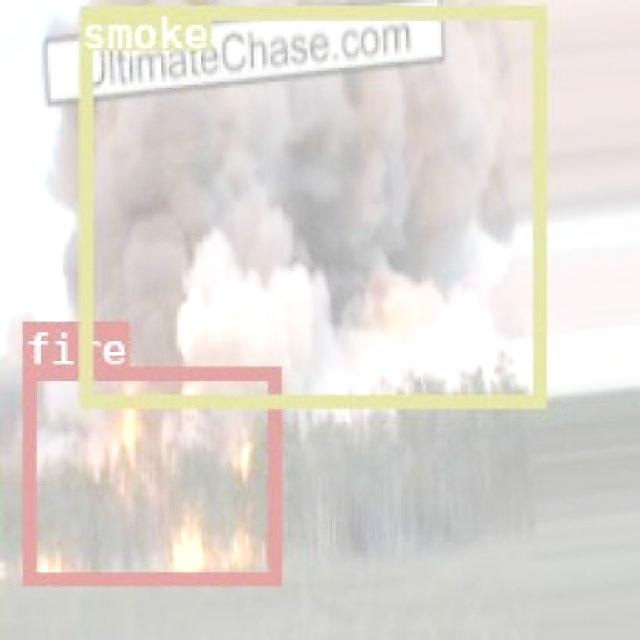fire: (21, 366, 278, 582)
smoke: (79, 4, 542, 407)
